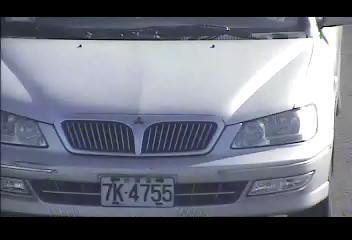plate: (98, 173, 175, 209)
